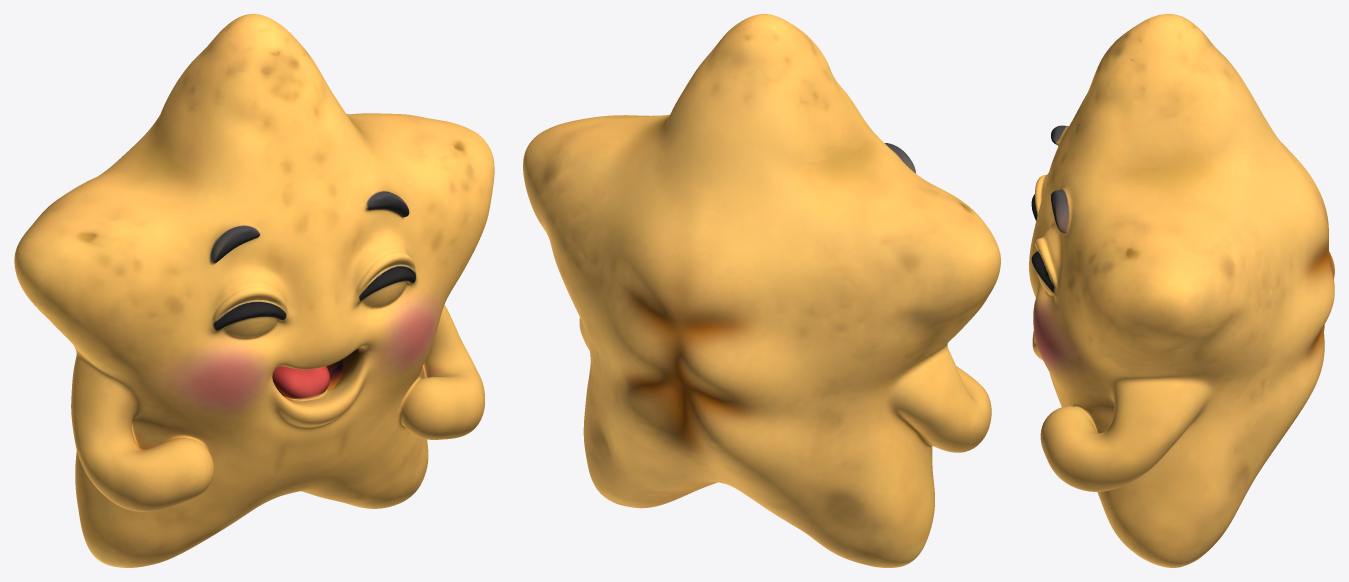
File: star character_2.glb
The picture shows the model from 3 angles, left to right: view 1: azimuth 30°, elevation 25°; view 2: azimuth 150°, elevation 25°; view 3: azimuth 270°, elevation 25°; orthographic projection. The views are drawn at different scales.
Size of the model in its own units: 1.81 by 1.9 by 1.08.
Materials: 1 (1 with a texture image).
